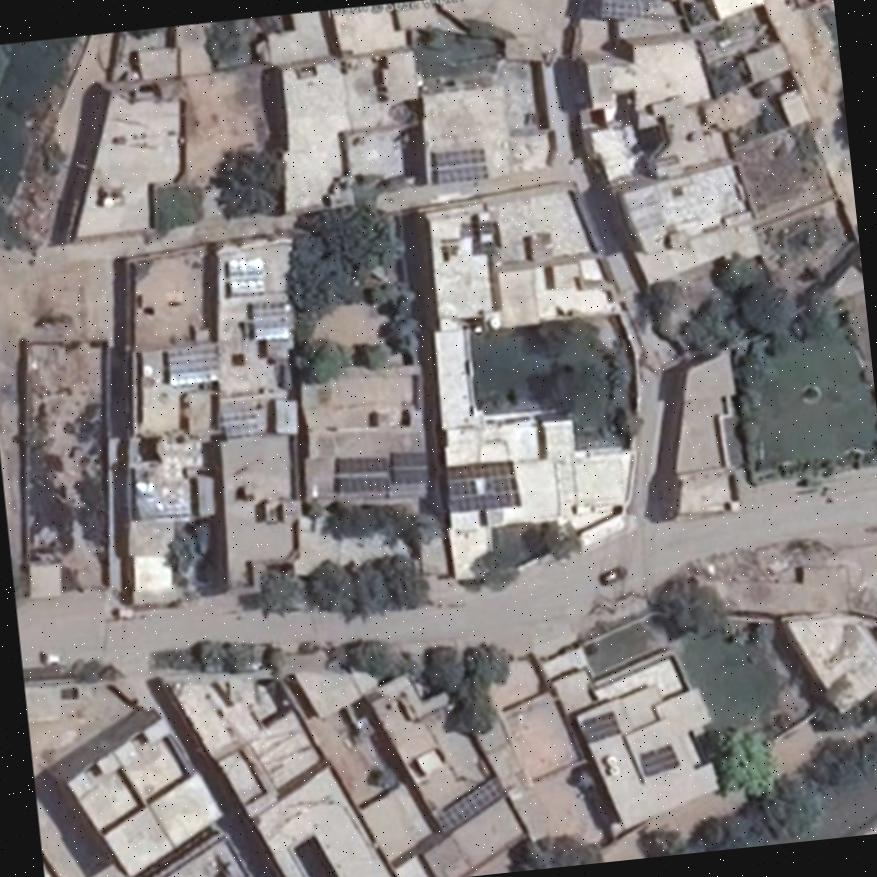Solarpanel: (445, 460, 521, 512), (436, 777, 502, 834), (337, 456, 390, 493), (433, 150, 487, 186), (168, 344, 217, 382), (390, 450, 432, 483), (638, 743, 680, 776), (225, 258, 263, 294), (250, 301, 288, 337), (581, 712, 619, 743)
